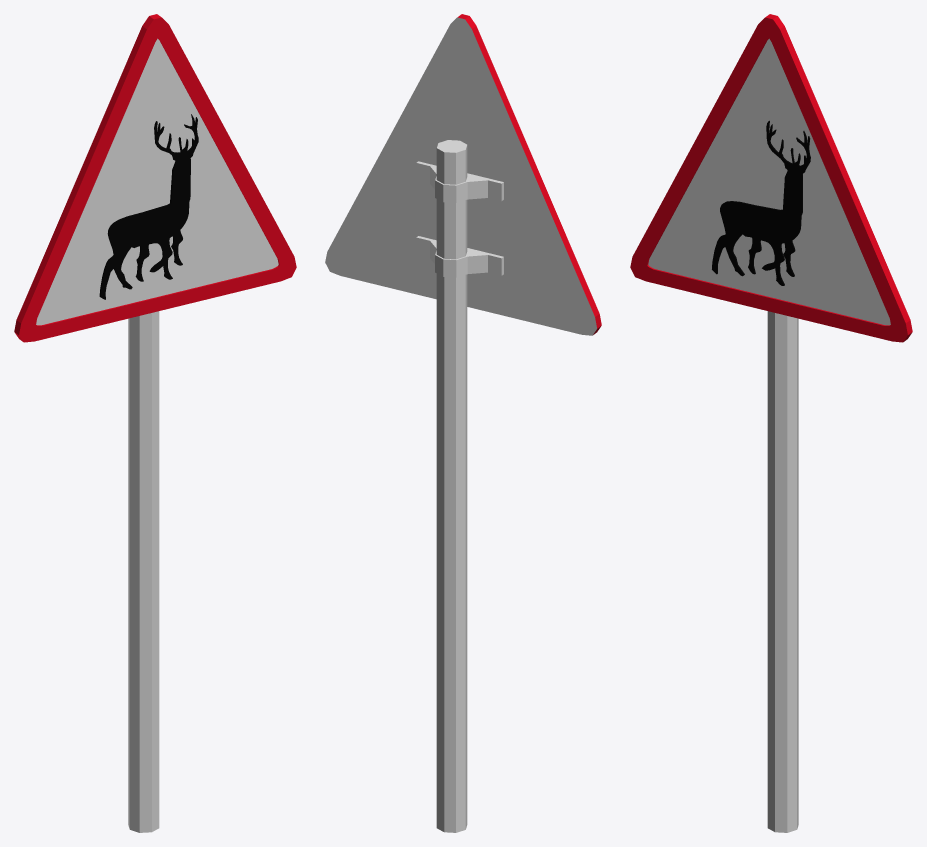
Rendered from SM_signpole.fbx.
3 renders of one model, left to right at view 1: azimuth 30°, elevation 25°; view 2: azimuth 150°, elevation 25°; view 3: azimuth 330°, elevation 25°, orthographic. The views are drawn at different scales.
Visible parts, largest first — view 1: SM_signpole; view 2: SM_signpole; view 3: SM_signpole.
Part boxes in pixels (x1=…): SM_signpole: x1=14, y1=14, x2=296, y2=832; SM_signpole: x1=325, y1=14, x2=601, y2=832; SM_signpole: x1=630, y1=14, x2=912, y2=832.
Bounding box in the file's own units: 50.69 × 143 × 7.29.
